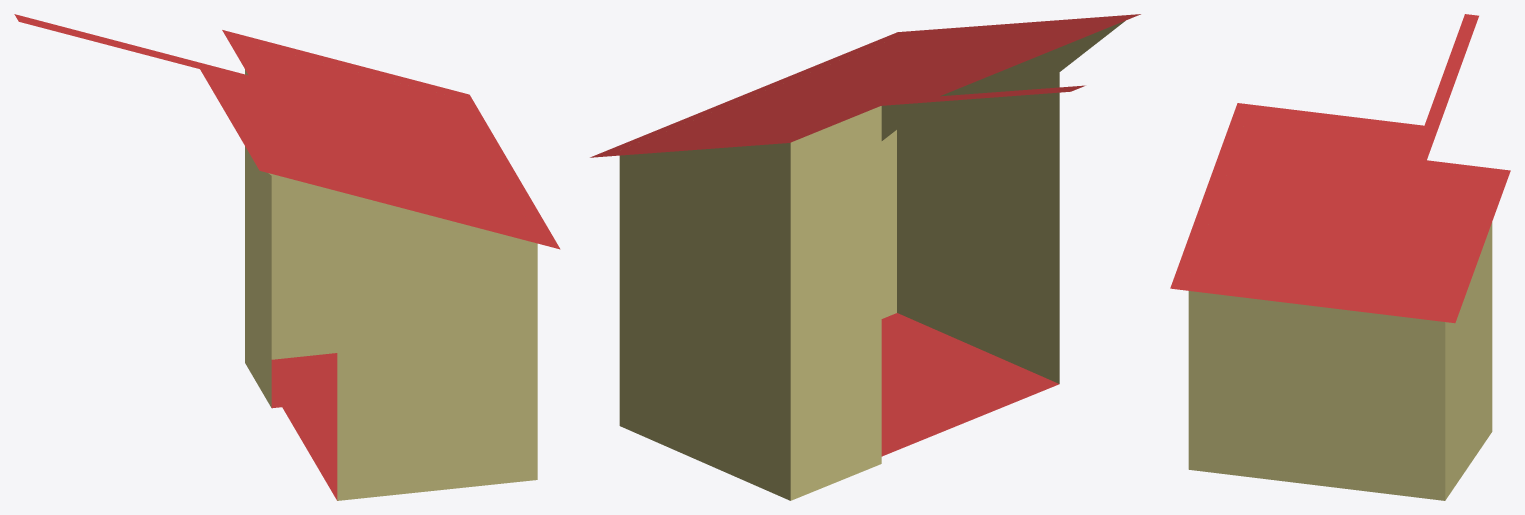
3 renders of one model, left to right at view 1: azimuth 30°, elevation 25°; view 2: azimuth 150°, elevation 25°; view 3: azimuth 270°, elevation 25°, orthographic. The views are drawn at different scales.
Bounding box in the file's own units: 13.54 × 11.44 × 12.02.
